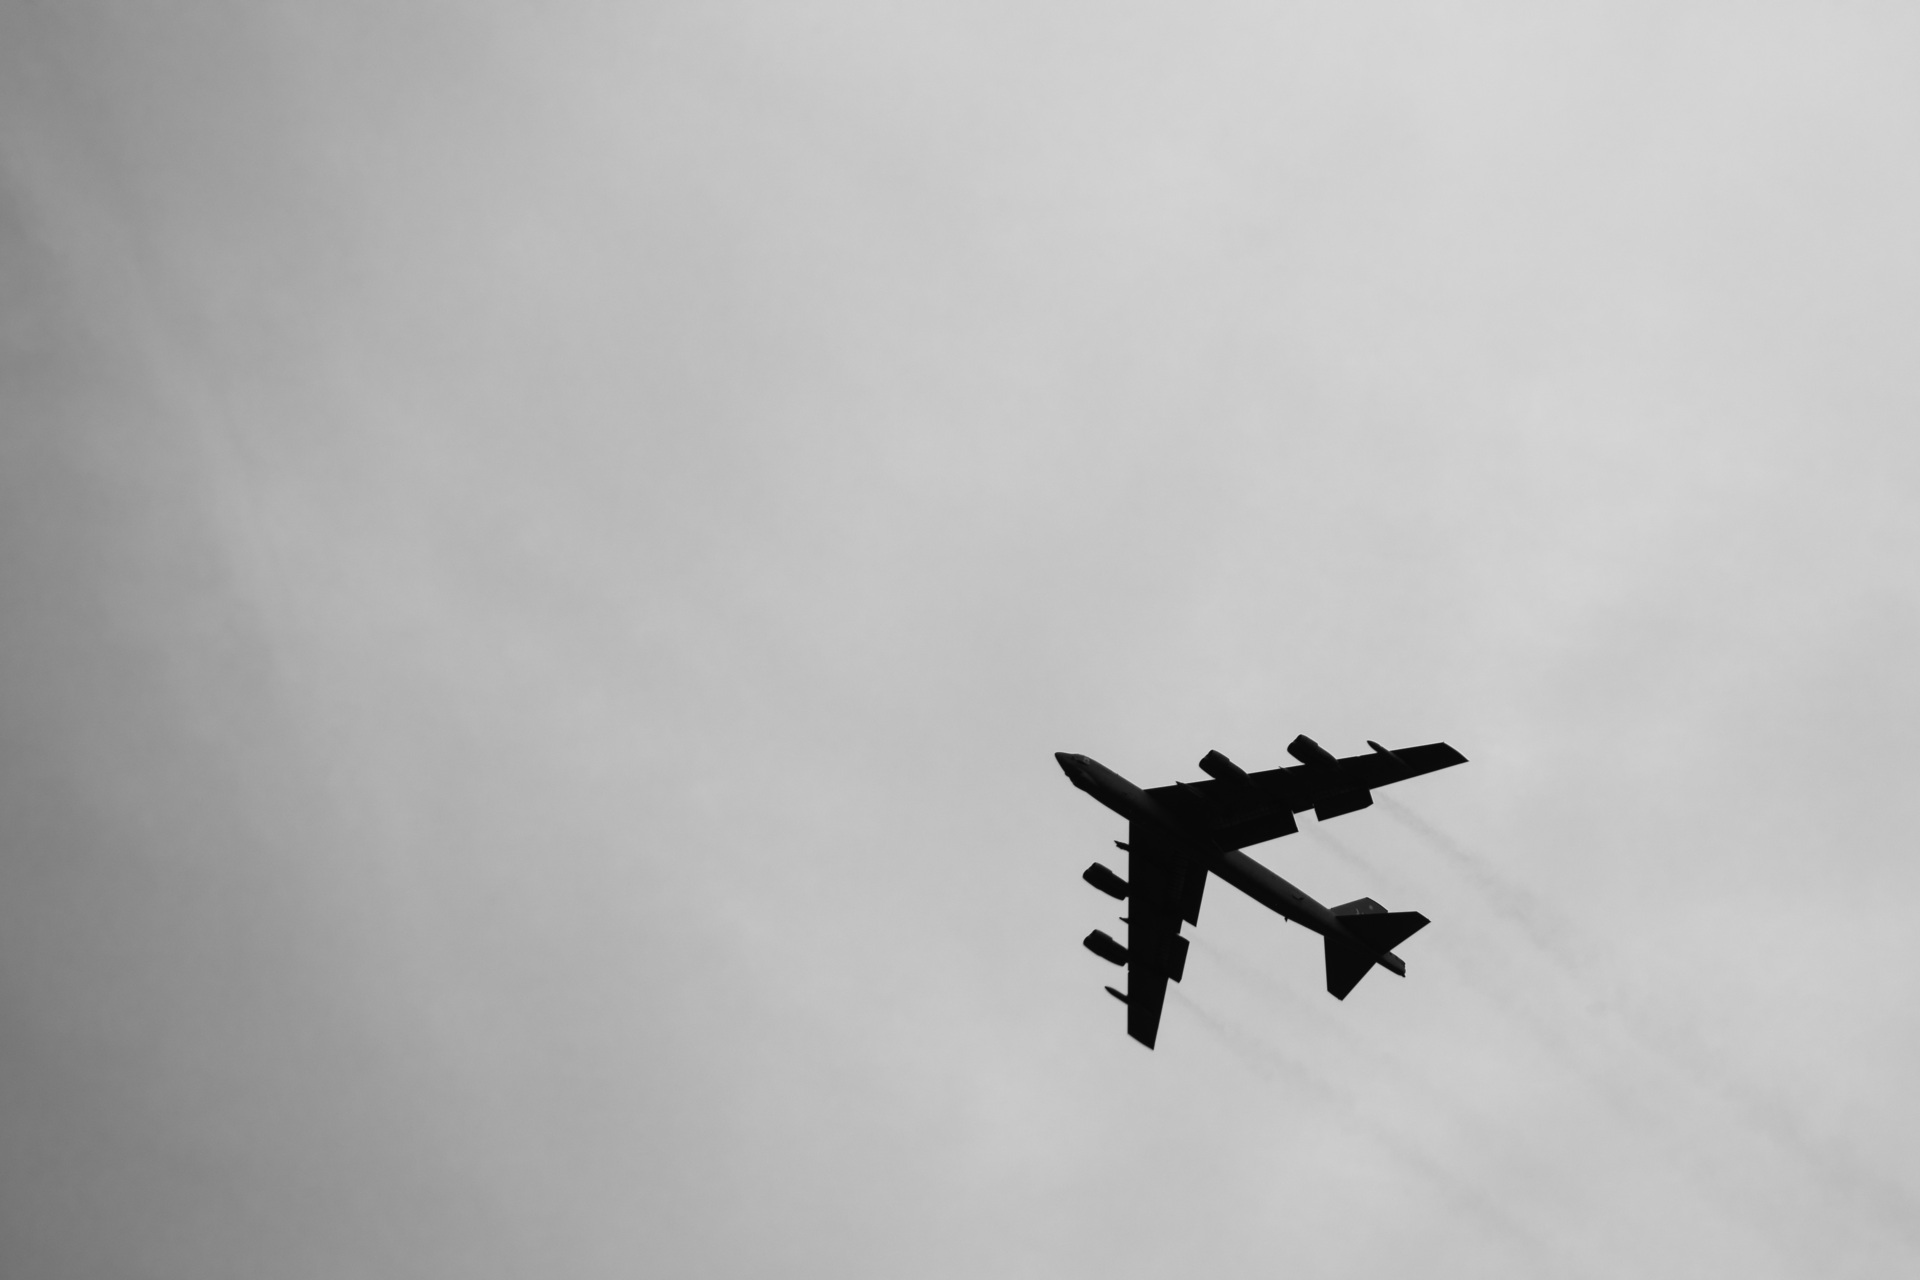B52: (1054, 734, 1470, 1051)
